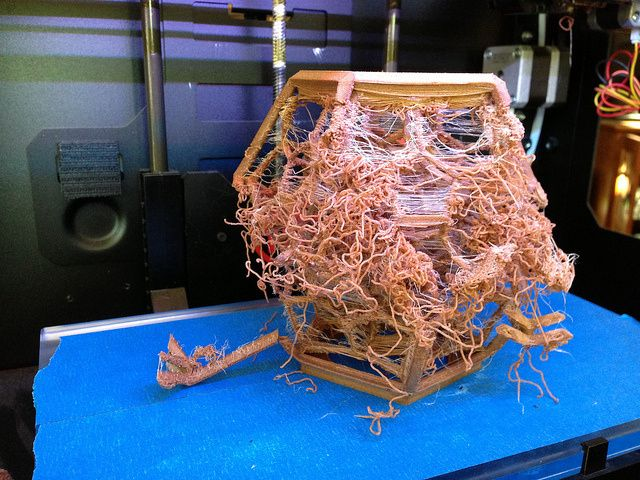fail: (224, 92, 585, 358), (145, 329, 237, 398), (345, 361, 416, 445), (504, 351, 569, 428), (275, 367, 321, 398)
